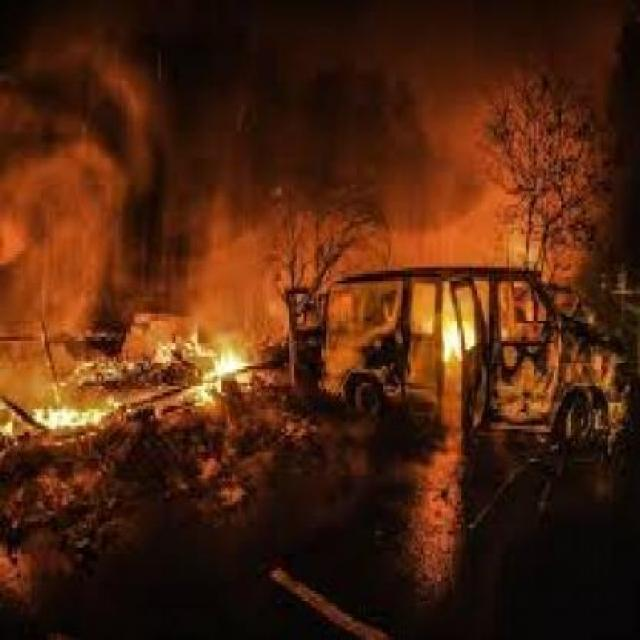Fire: (2, 290, 305, 481), (382, 211, 514, 441)
